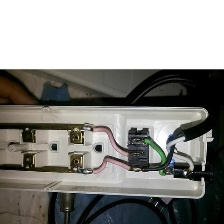three_eye_plug: (0, 99, 217, 204)
